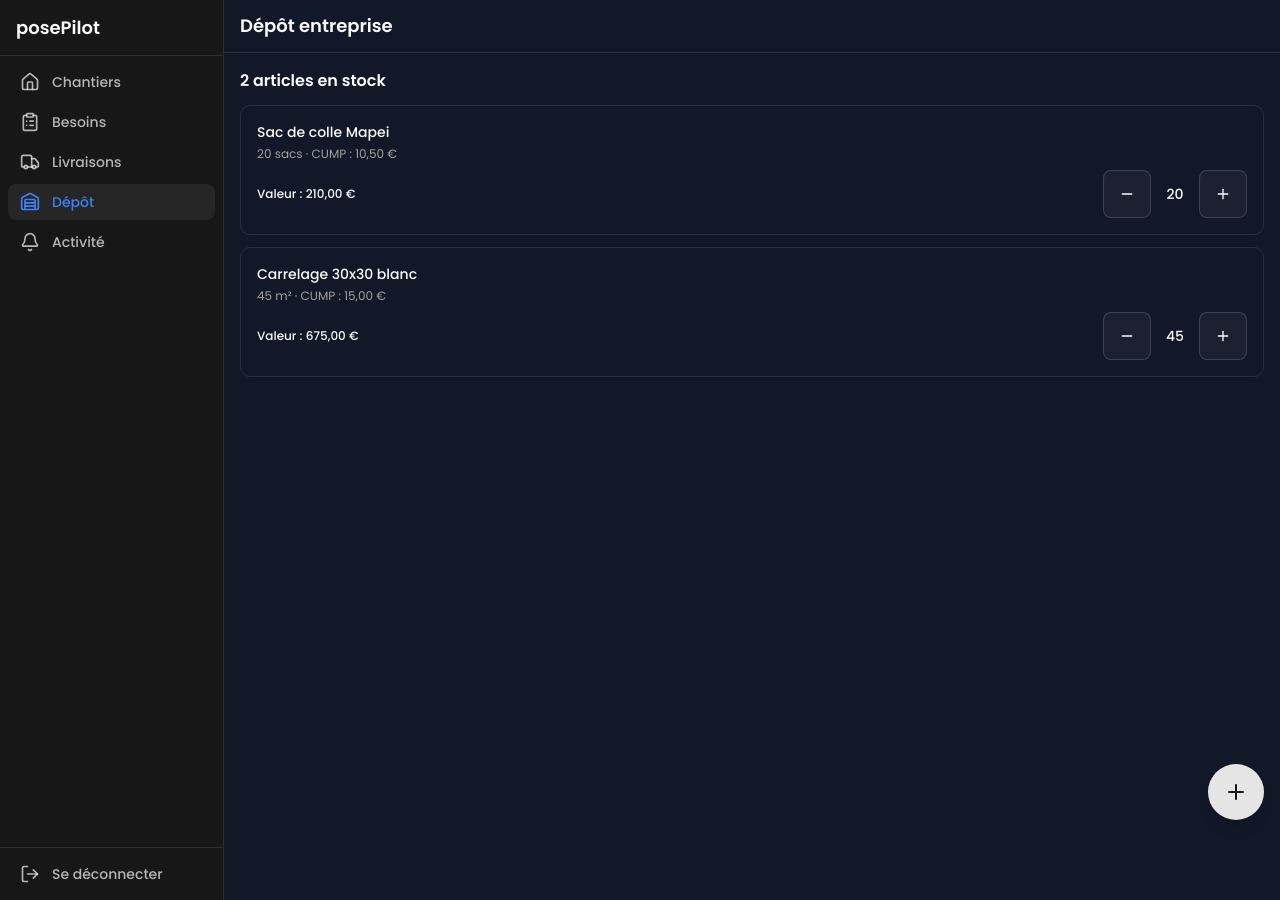
Test: DepotPage › shows validation error when quantity exceeds stock (AC #4)
Expected: the text "Sac de colle Mapei" is shown, x1=257 y1=122 x2=389 y2=142
Click the button with aria-label "Détail Sac de colle Mapei" at coordinates (323, 132), box x1=240 y1=105 x2=1264 y2=235
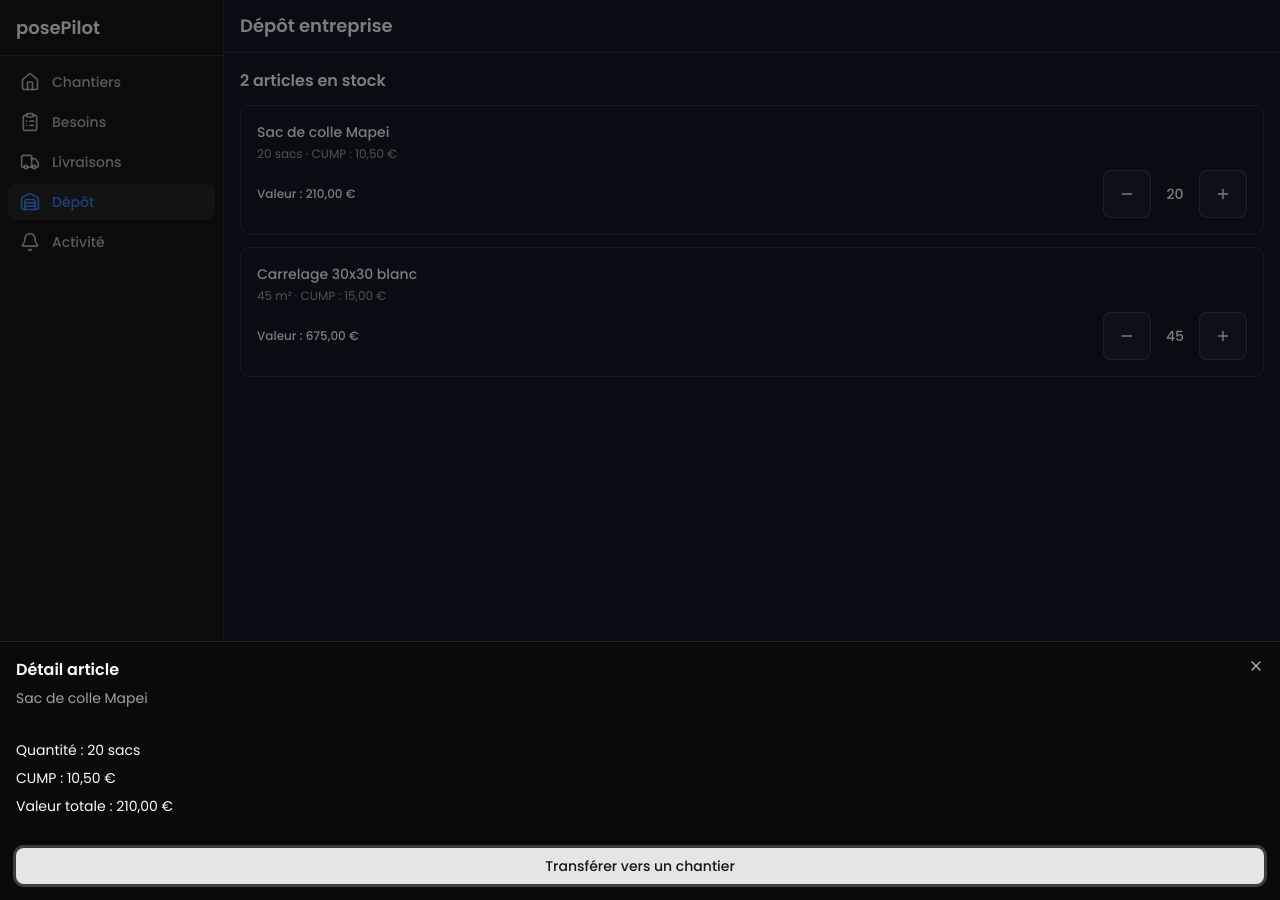
Now the heading "Détail article" is shown, box x1=16 y1=658 x2=119 y2=681
Click the button "Transférer vers un chantier" at coordinates (640, 866), box x1=16 y1=848 x2=1264 y2=884
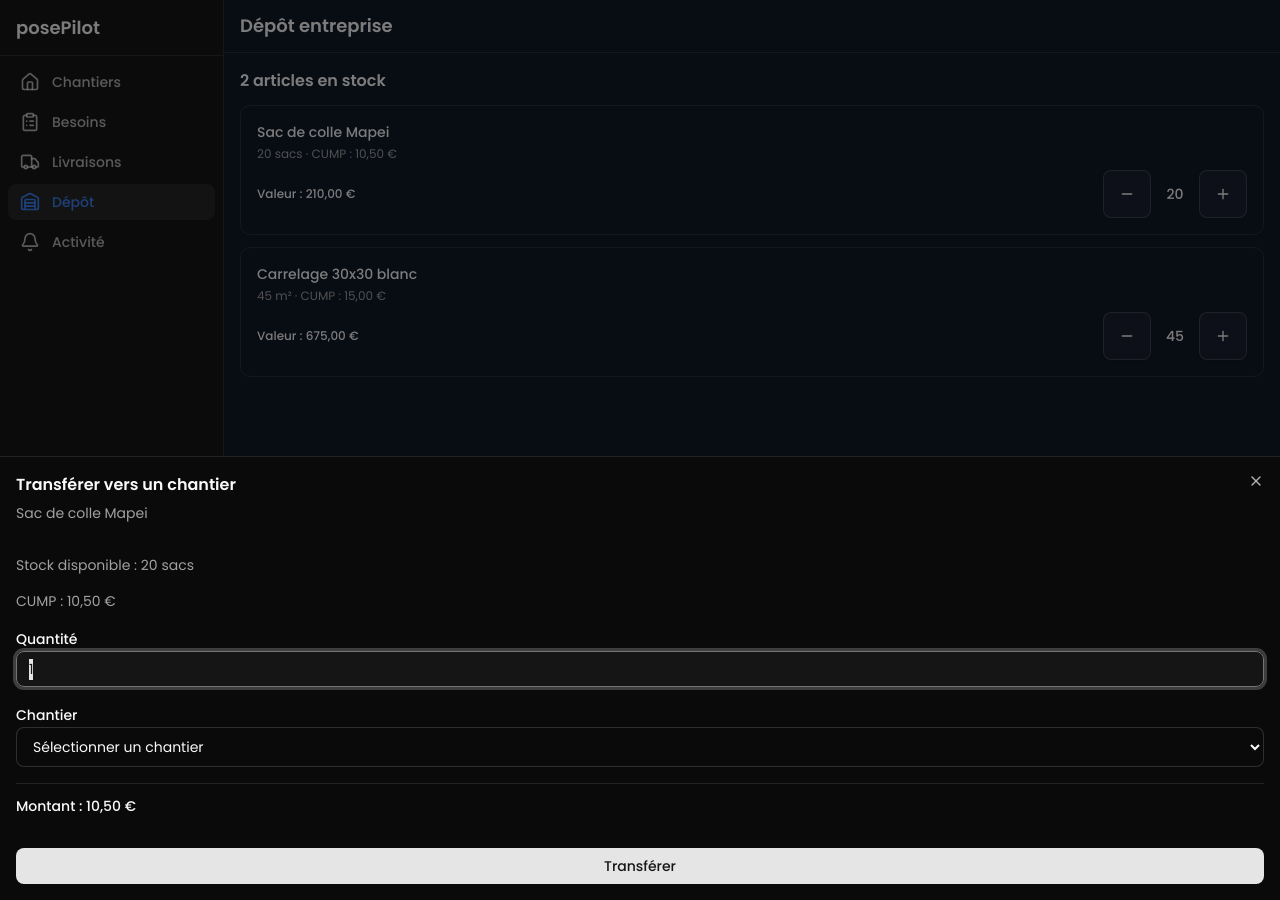
Replace the text in the field labelled "Quantité" with "999" at coordinates (640, 669), box x1=16 y1=651 x2=1264 y2=687
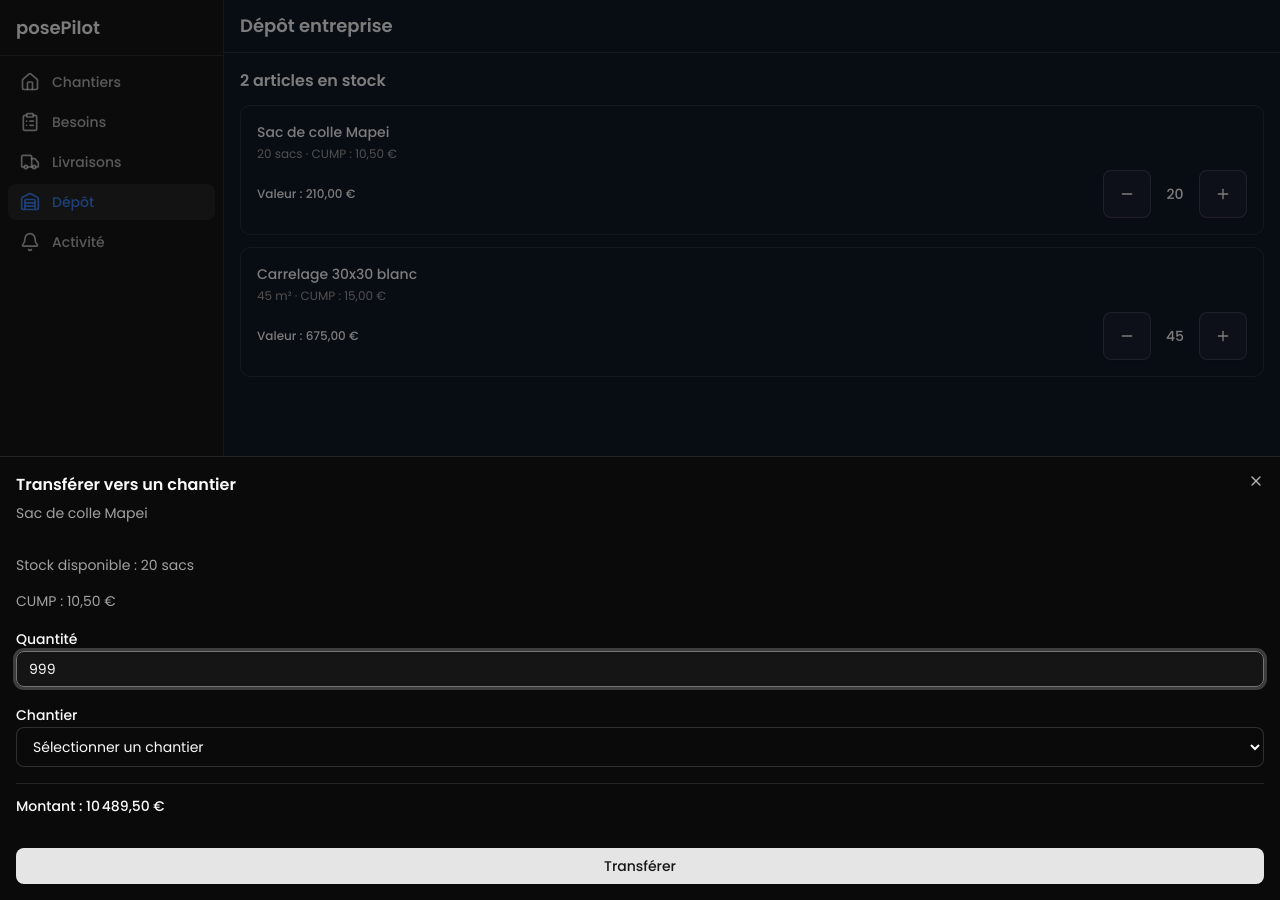
Note: Select a chantier
Select "Chantier Test" in the dropdown labelled "Chantier" at coordinates (640, 747), box x1=16 y1=727 x2=1264 y2=767
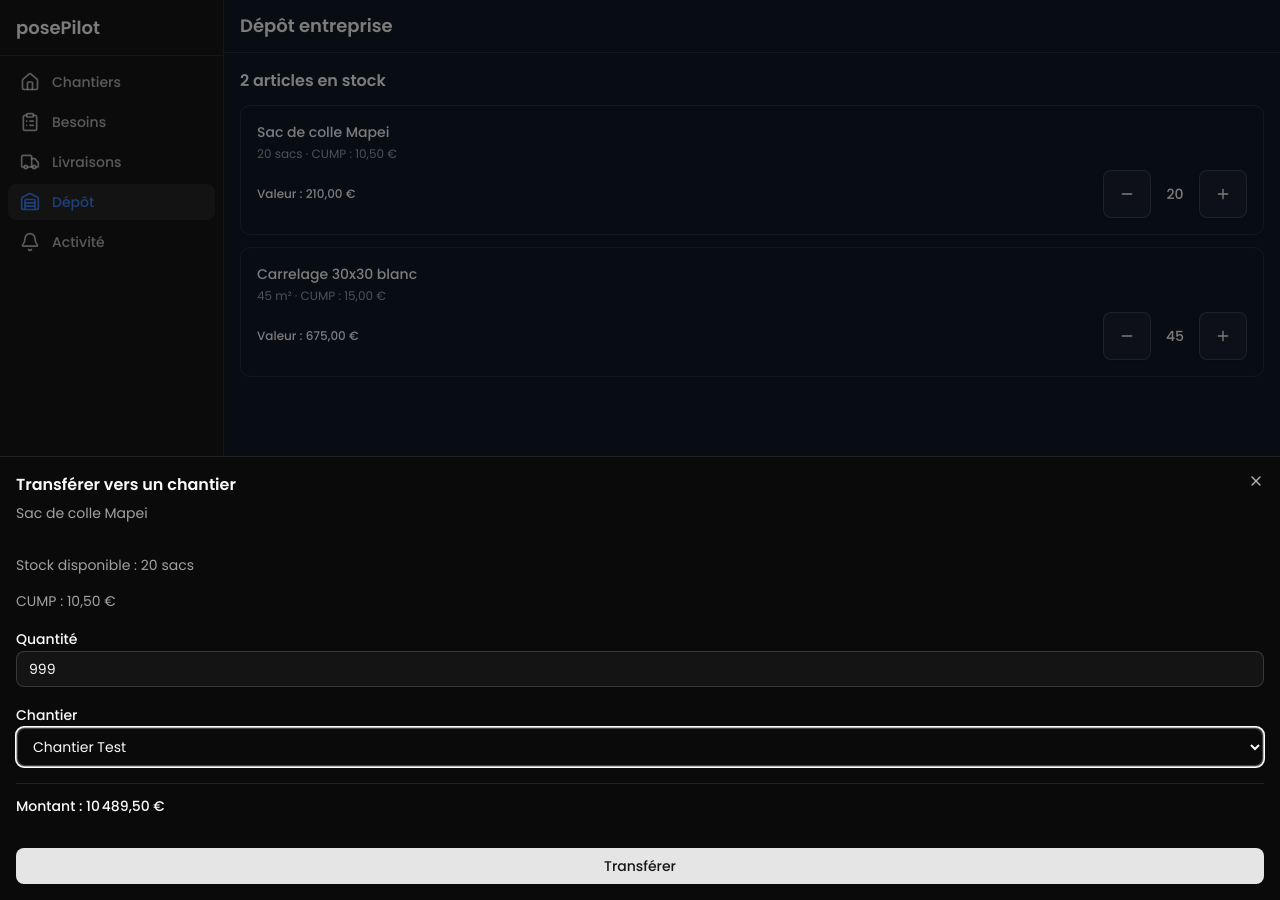
Click the button "Transférer" at coordinates (640, 866), box x1=16 y1=848 x2=1264 y2=884
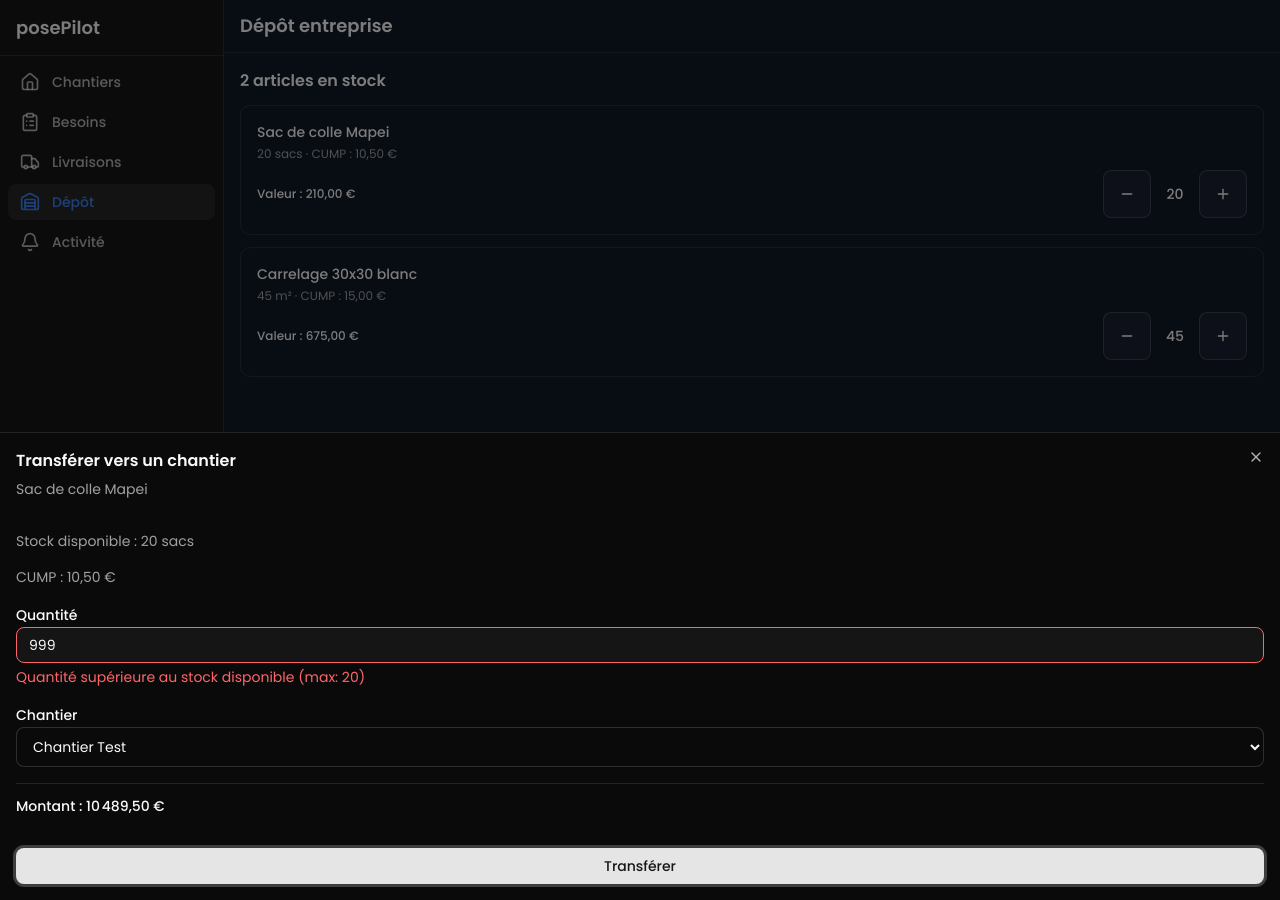
Now the text "Quantité supérieure au stock disponible (max: 20)" is shown, box x1=16 y1=667 x2=365 y2=687
